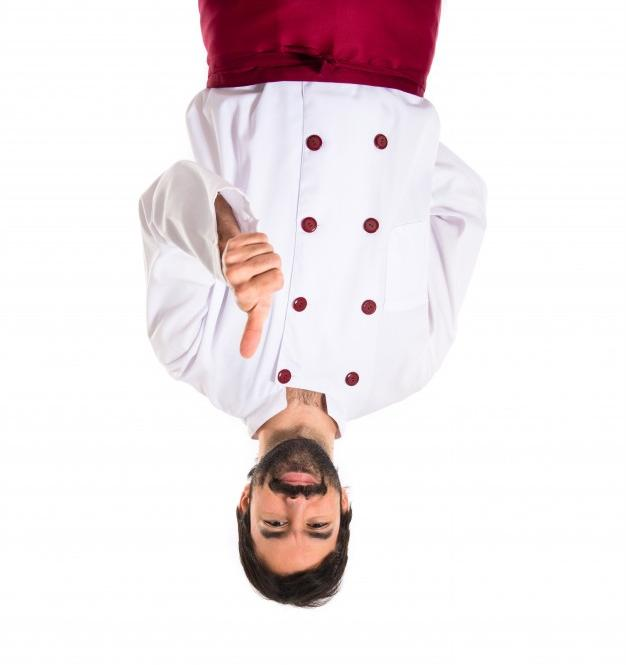thumbsdown: (222, 232, 286, 358)
